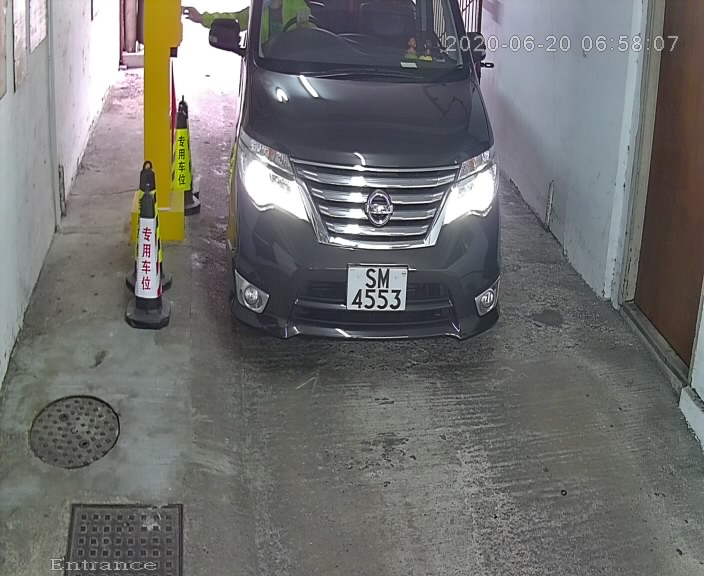privatecar: (205, 3, 530, 366)
